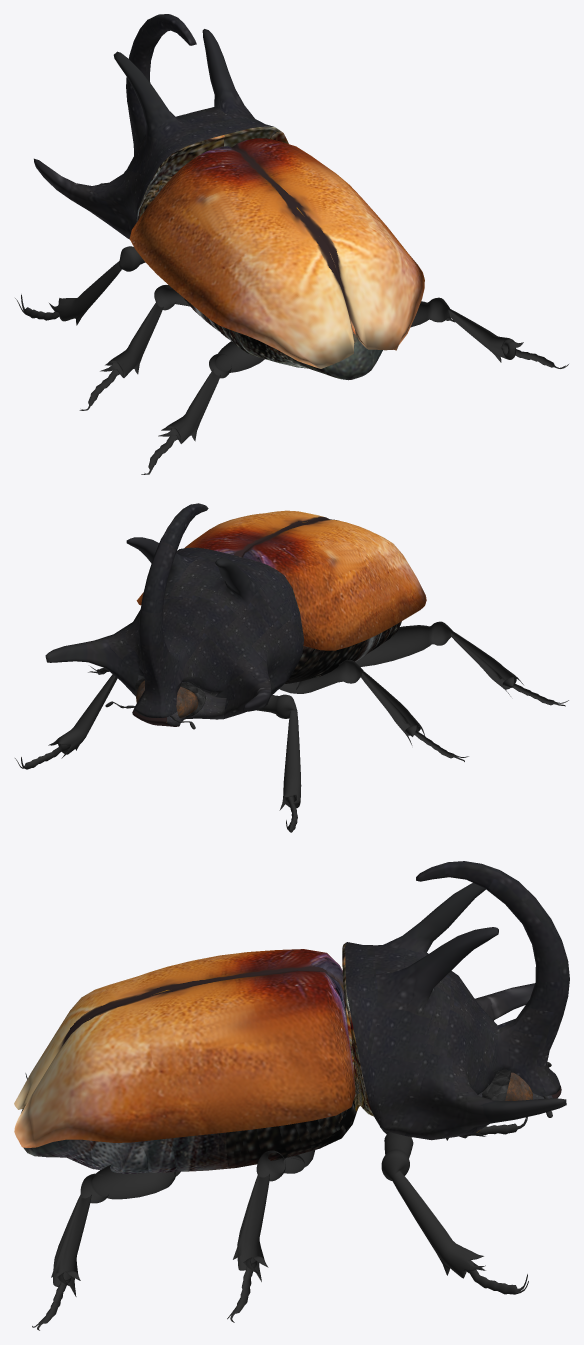
Rendered from beetle.glb.
3 views of the same model, one above another, from view 1: azimuth 30°, elevation 25°; view 2: azimuth 150°, elevation 25°; view 3: azimuth 270°, elevation 25° (orthographic). The views are drawn at different scales.
Visible parts, largest first — view 1: Body, Leg_R_R, Leg_M_L, Leg_R_L, Leg_F_R; view 2: Body, Leg_R_R, Leg_M_L, Leg_F_R, Leg_F_L, Eyes; view 3: Body, Leg_R_L, Leg_F_L, Leg_M_R, Eyes.
Part boxes in pixels (x1,y1,x2,y2): Body: [34, 14, 424, 380]; Leg_R_R: [141, 341, 264, 474]; Leg_M_L: [79, 285, 190, 410]; Leg_R_L: [410, 297, 568, 368]; Leg_F_R: [15, 246, 145, 325]; Body: [45, 503, 426, 726]; Leg_R_R: [355, 621, 568, 706]; Leg_M_L: [279, 660, 468, 761]; Leg_F_R: [256, 694, 301, 832]; Leg_F_L: [15, 674, 117, 769]; Eyes: [135, 677, 205, 718]; Body: [14, 861, 569, 1173]; Leg_R_L: [32, 1164, 180, 1330]; Leg_F_L: [380, 1127, 528, 1294]; Leg_M_R: [227, 1150, 315, 1322]; Eyes: [482, 1070, 532, 1100].
Bounding box in the file's own units: 14.31 × 9.06 × 13.08.
3 materials, 2 textured.
